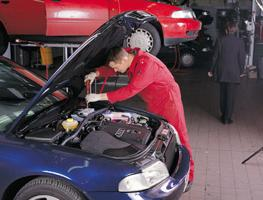person: (84, 45, 195, 195)
